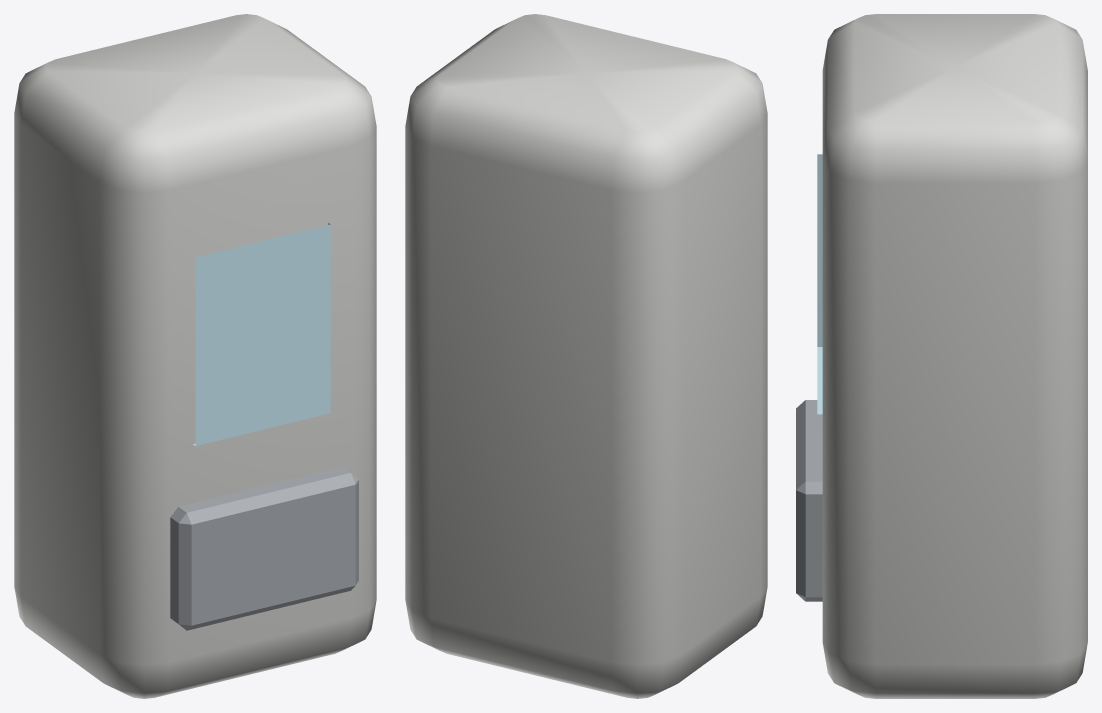
Rendered from sanitizer.glb.
3 views of the same model, side by side, from view 1: azimuth 30°, elevation 25°; view 2: azimuth 150°, elevation 25°; view 3: azimuth 270°, elevation 25° (orthographic).
Visible parts, largest first — view 1: sanitizer; view 2: sanitizer; view 3: sanitizer.
Boxes of the visible parts, x1=… form: sanitizer: x1=14, y1=14, x2=376, y2=698; sanitizer: x1=405, y1=14, x2=767, y2=698; sanitizer: x1=796, y1=14, x2=1087, y2=698.
Bounding box in the file's own units: 0.12 × 0.24 × 0.11.
